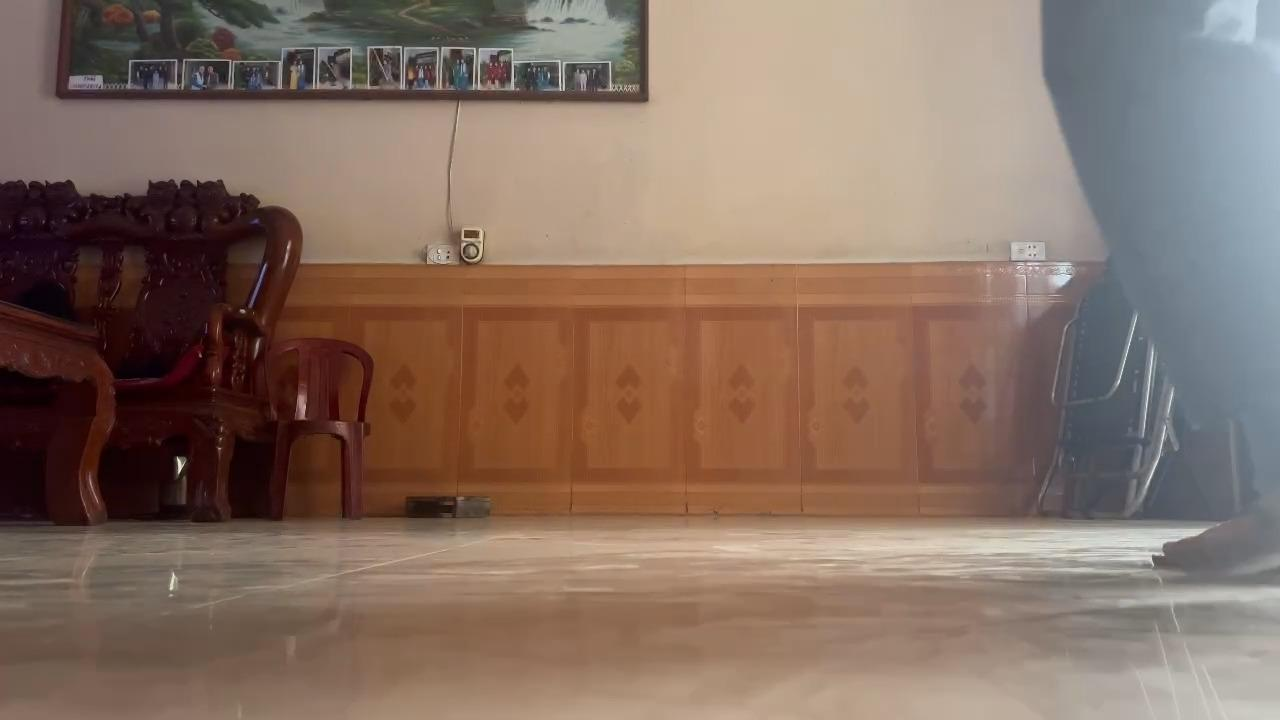no-boot: (1142, 502, 1280, 584)
